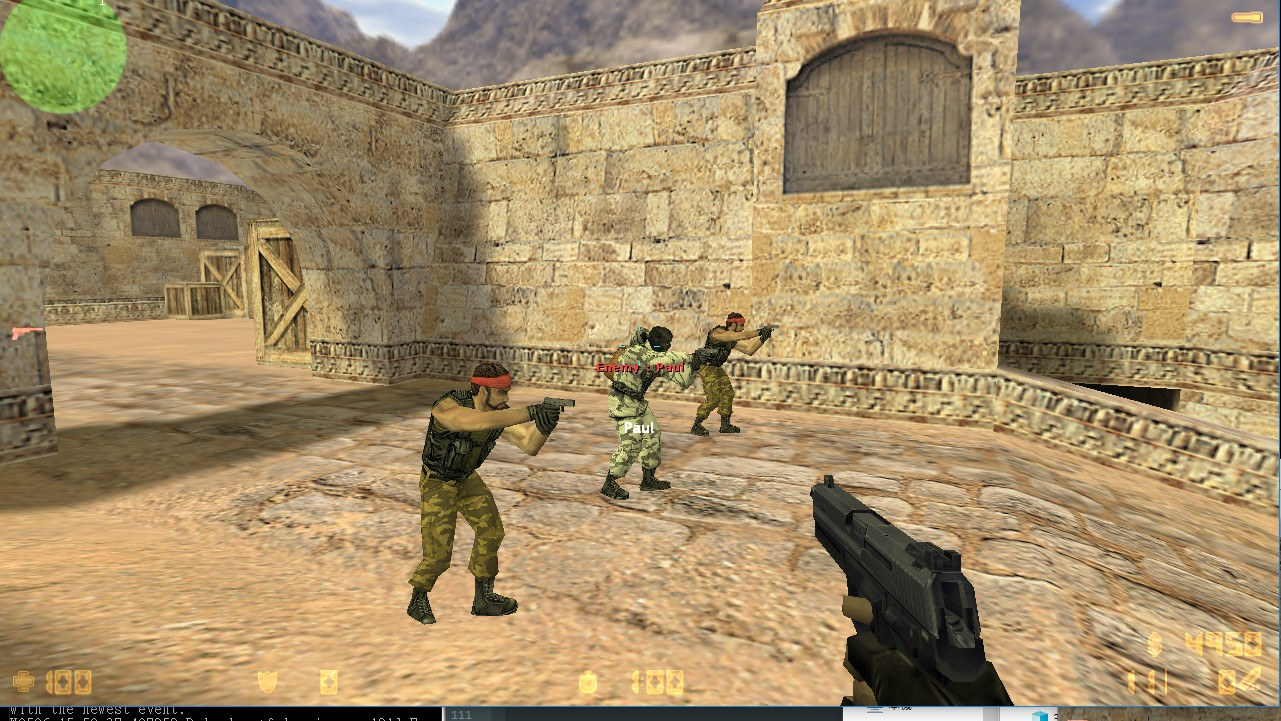person: (403, 355, 522, 630), (594, 317, 674, 500), (692, 302, 760, 436)
